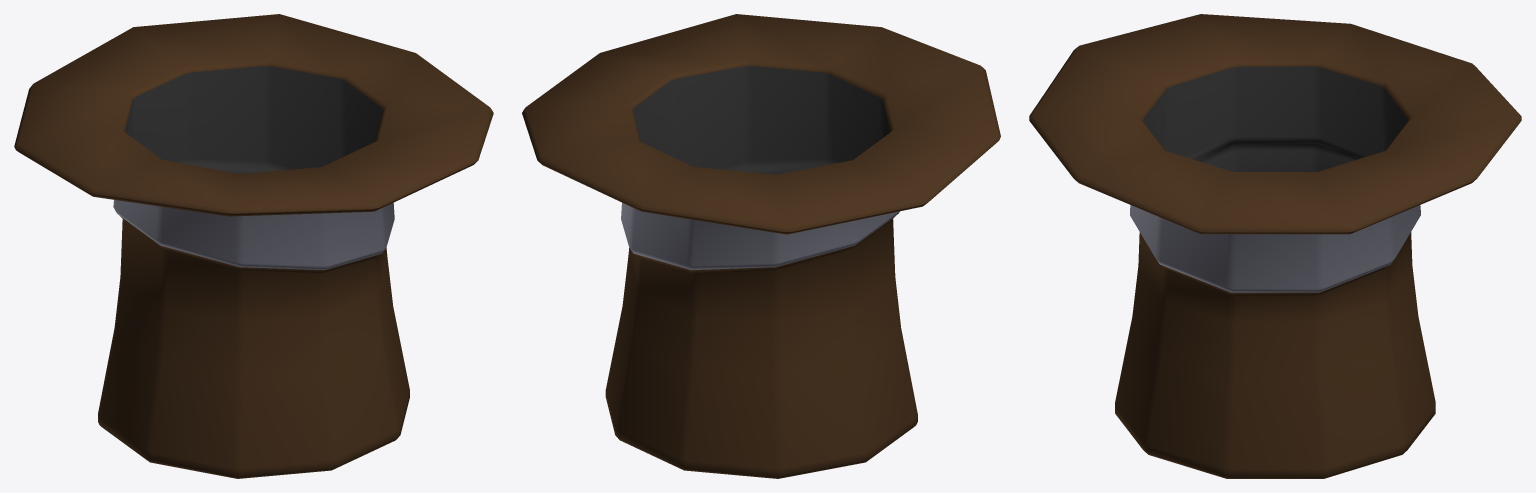
File: Cilindro.fbx
3 renders of one model, left to right at view 1: azimuth 30°, elevation 25°; view 2: azimuth 150°, elevation 25°; view 3: azimuth 270°, elevation 25°, orthographic.
Parts seen in each view (by area): view 1: Cylinder; view 2: Cylinder; view 3: Cylinder.
Boxes of the visible parts, left/top/right/bottom form: Cylinder: left=14, top=14, right=493, bottom=478; Cylinder: left=522, top=14, right=1000, bottom=478; Cylinder: left=1029, top=14, right=1521, bottom=478.
Size of the model in its own units: 292 by 212 by 305.
